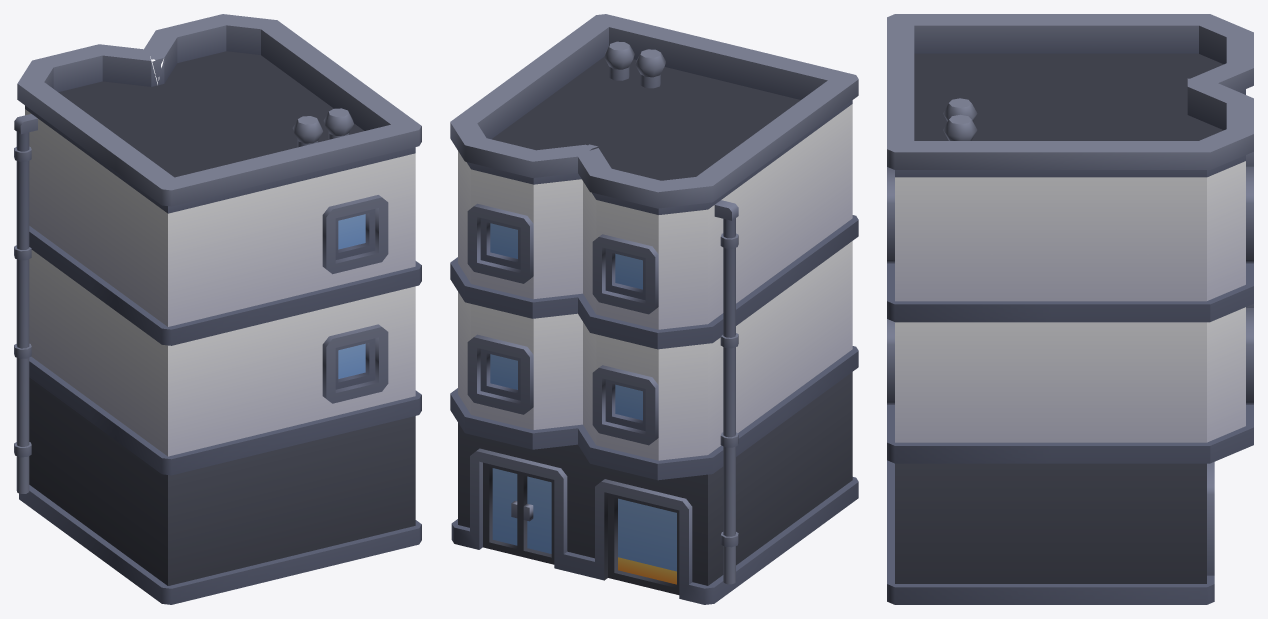
File: c_building-a.glb
3 views of the same model, side by side, from view 1: azimuth 30°, elevation 25°; view 2: azimuth 150°, elevation 25°; view 3: azimuth 270°, elevation 25° (orthographic). The views are drawn at different scales.
Parts seen in each view (by area): view 1: building-a; view 2: building-a; view 3: building-a.
Part boxes in pixels (left/top/right/bottom): building-a: left=14, top=14, right=421, bottom=604; building-a: left=450, top=14, right=858, bottom=604; building-a: left=887, top=14, right=1253, bottom=604.
Size of the model in its own units: 0.8836 by 1.29 by 0.94.
Materials: 1 (1 with a texture image).
